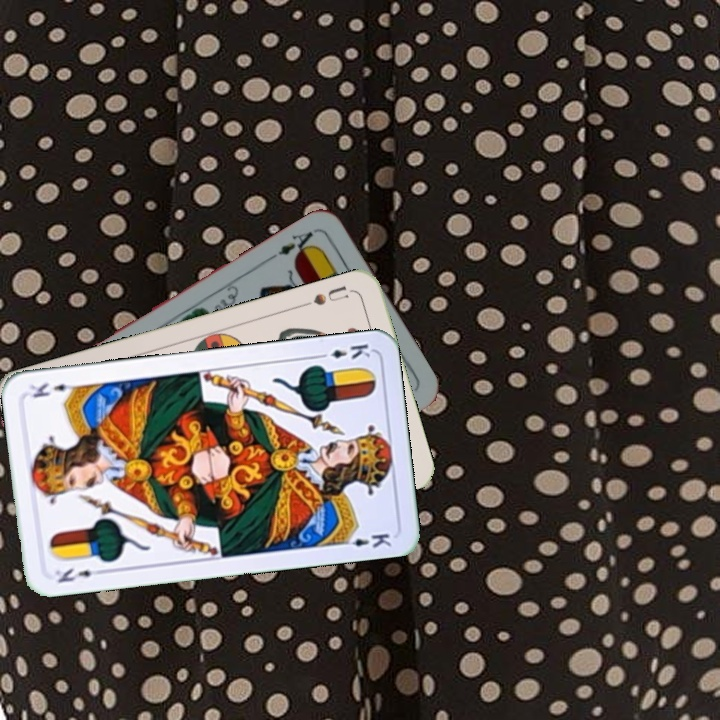EA: (274, 225, 320, 262)
EK: (313, 339, 373, 362), (51, 564, 106, 586)
SU: (298, 281, 351, 310)
